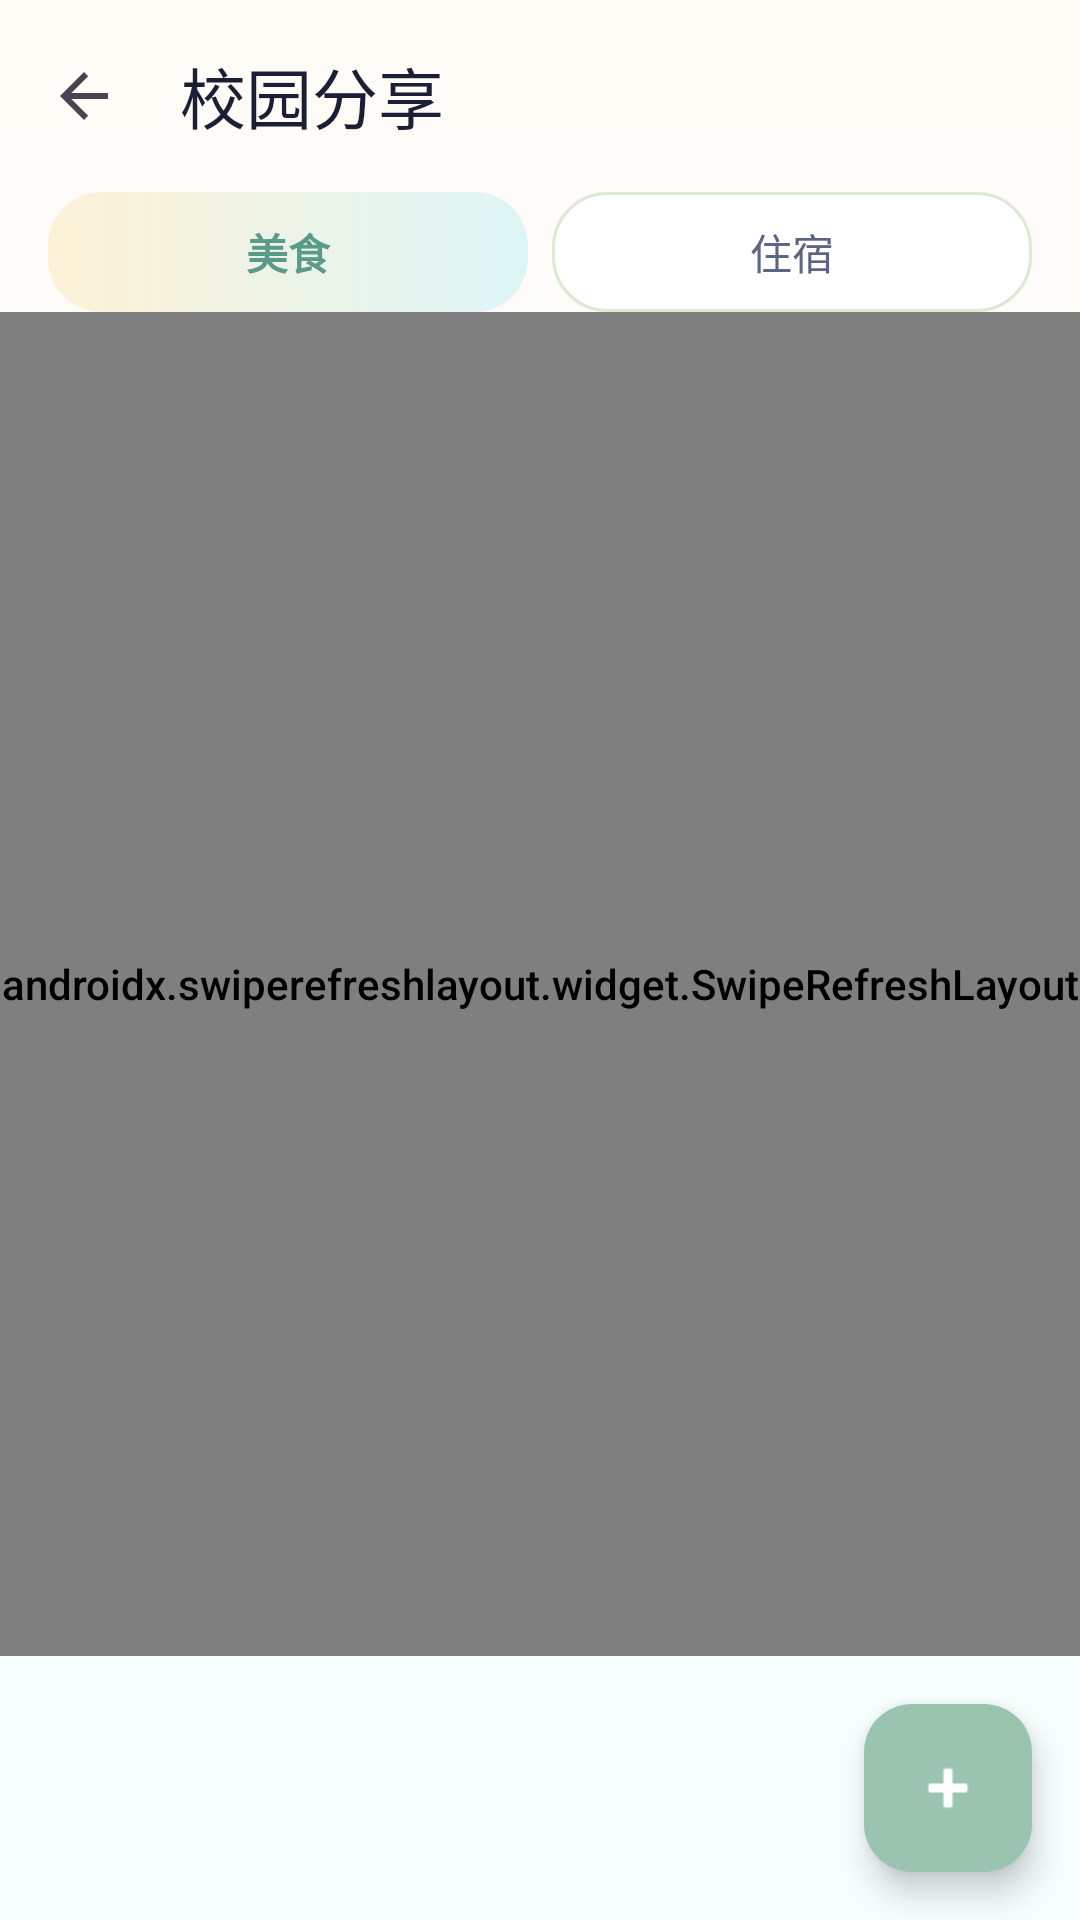

Where to tap for icons on this 1080px x 1920px app screen, as (x,y):
发布分享: (948,1788)
